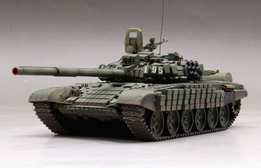t72: (11, 46, 246, 144)
